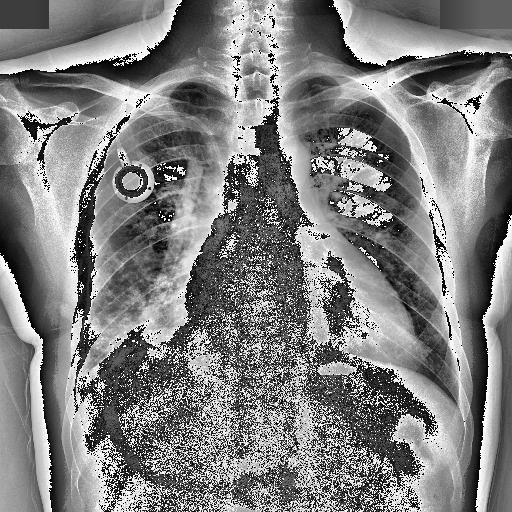0- Aortic enlargement: (256, 133, 312, 193)
10- Pleural effusion: (76, 348, 114, 394)
11- Pleural thickening: (76, 348, 114, 394)
3- Cardiomegaly: (180, 252, 416, 366), (185, 270, 418, 369), (182, 272, 418, 368)
6- Infiltration: (84, 212, 204, 358), (86, 240, 198, 366), (90, 235, 174, 358)
